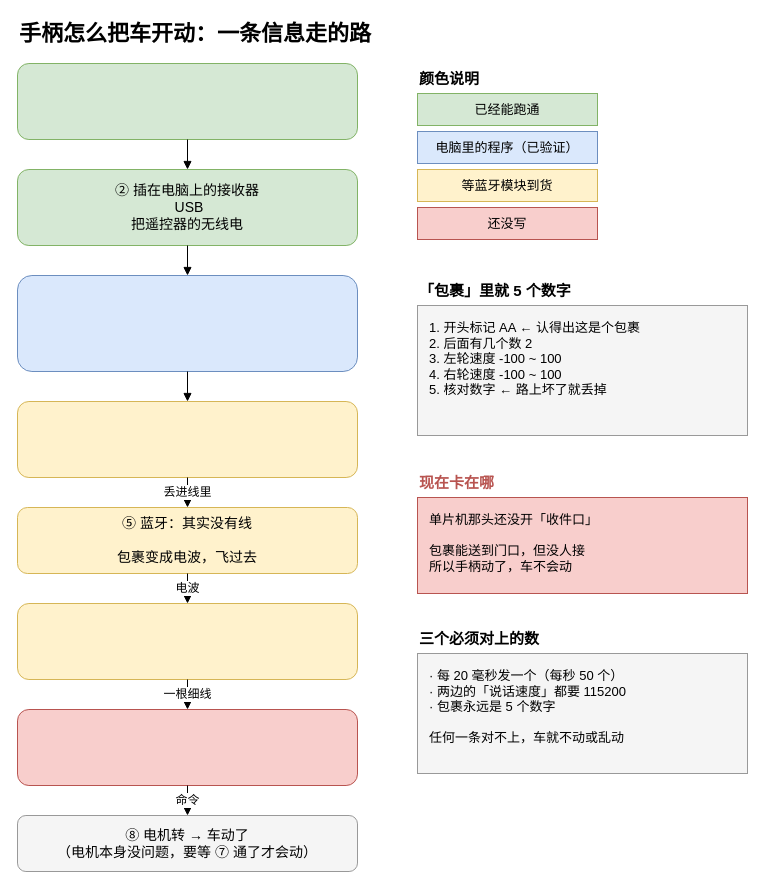
Some shapes in this 765 by 889 pixel diagram are drawn without their labels. Each missing label, with the centre of its shape:
"① 手柄（你手里的遥控器） 推摇杆 = 控制往哪边走 按扳机 = 控制多快" belongs at point 187,101.
"③ 电脑里的控制程序 一看：摇杆推到了哪里 二算：左轮、右轮各转多快 三装：塞进一个小包裹" belongs at point 187,323.
"④ 电脑里的「虚拟串口」 电脑假装这里插着一根线 程序把包裹丢进这根线里就行" belongs at point 187,439.
"⑥ 车上的蓝牙模块 收下电波，还原成包裹 再从一个小引脚送出去" belongs at point 187,641.
"⑦ 单片机（车的大脑） 拆开包裹，读出左右轮的速度 再命令电机照这个转" belongs at point 187,747.
